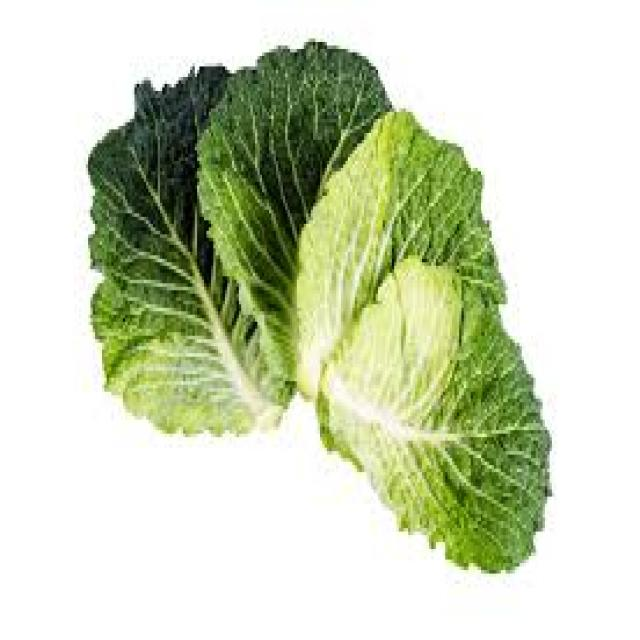organic waste: (316, 252, 550, 570), (86, 63, 283, 430), (192, 39, 390, 398), (295, 108, 503, 406)
